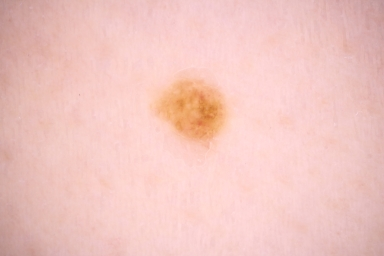nevus: (157, 80, 227, 137)
